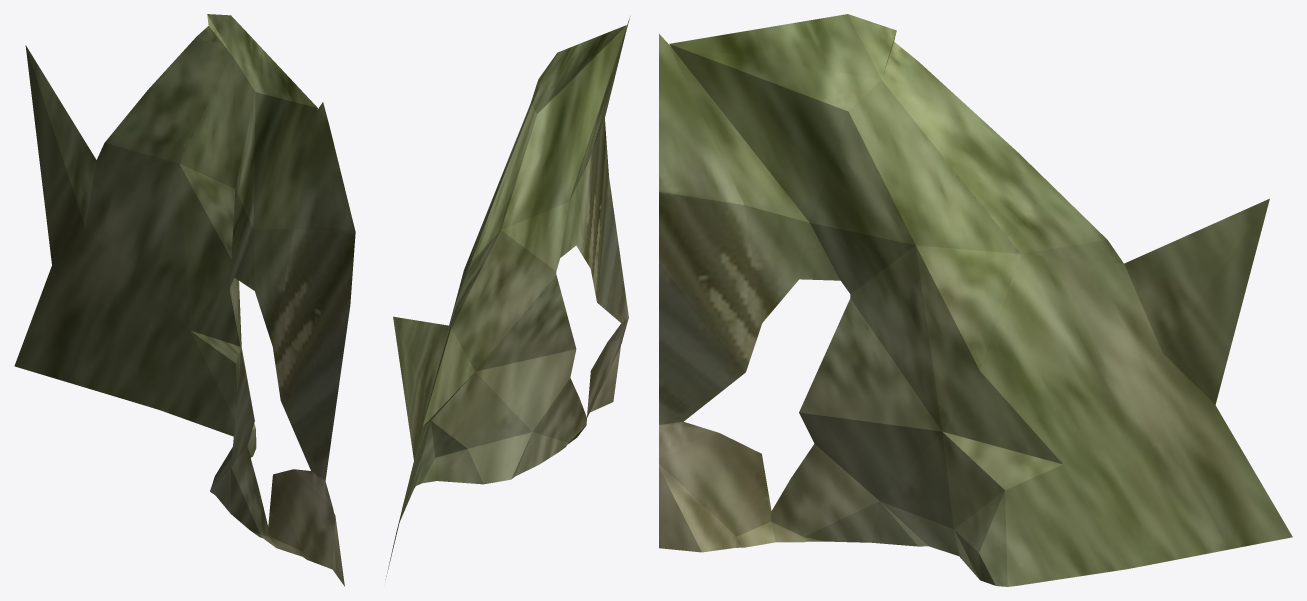
3 renders of one model, left to right at view 1: azimuth 30°, elevation 25°; view 2: azimuth 150°, elevation 25°; view 3: azimuth 270°, elevation 25°, orthographic. The views are drawn at different scales.
Size of the model in its own units: 0.3483 by 1.71 by 1.88.
1 material, 1 textured.
